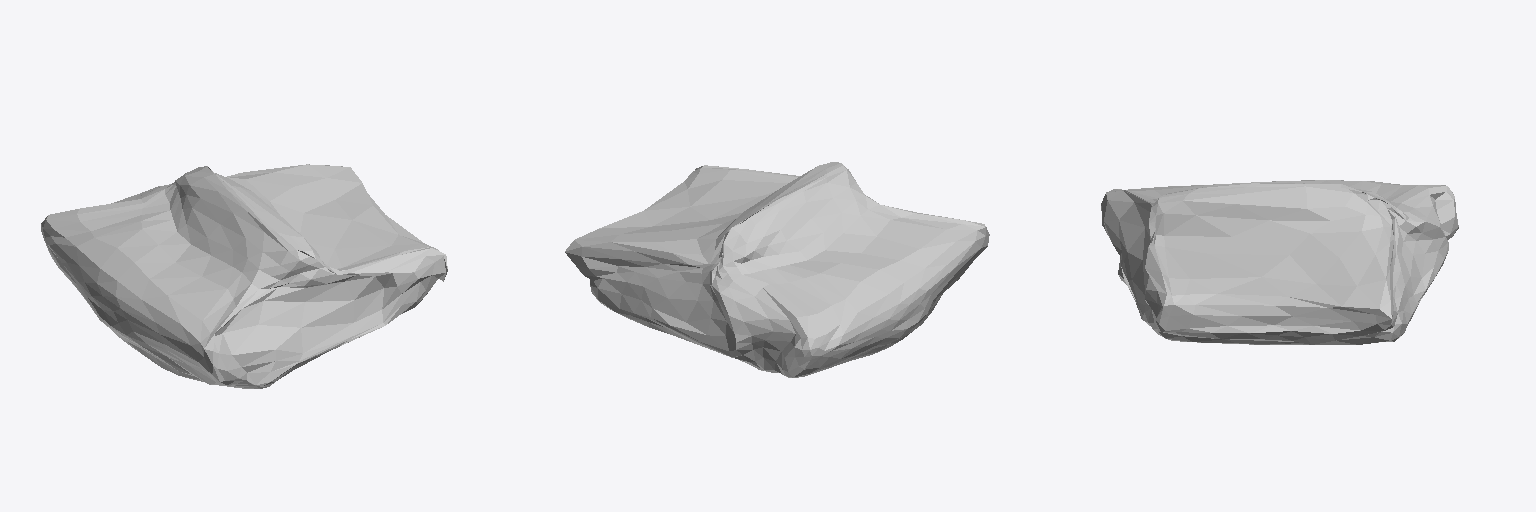
File: video3_318.obj
3 views of the same model, side by side, from view 1: azimuth 30°, elevation 25°; view 2: azimuth 150°, elevation 25°; view 3: azimuth 270°, elevation 25° (orthographic).
Bounding box in the file's own units: 0.9534 × 0.4044 × 1.